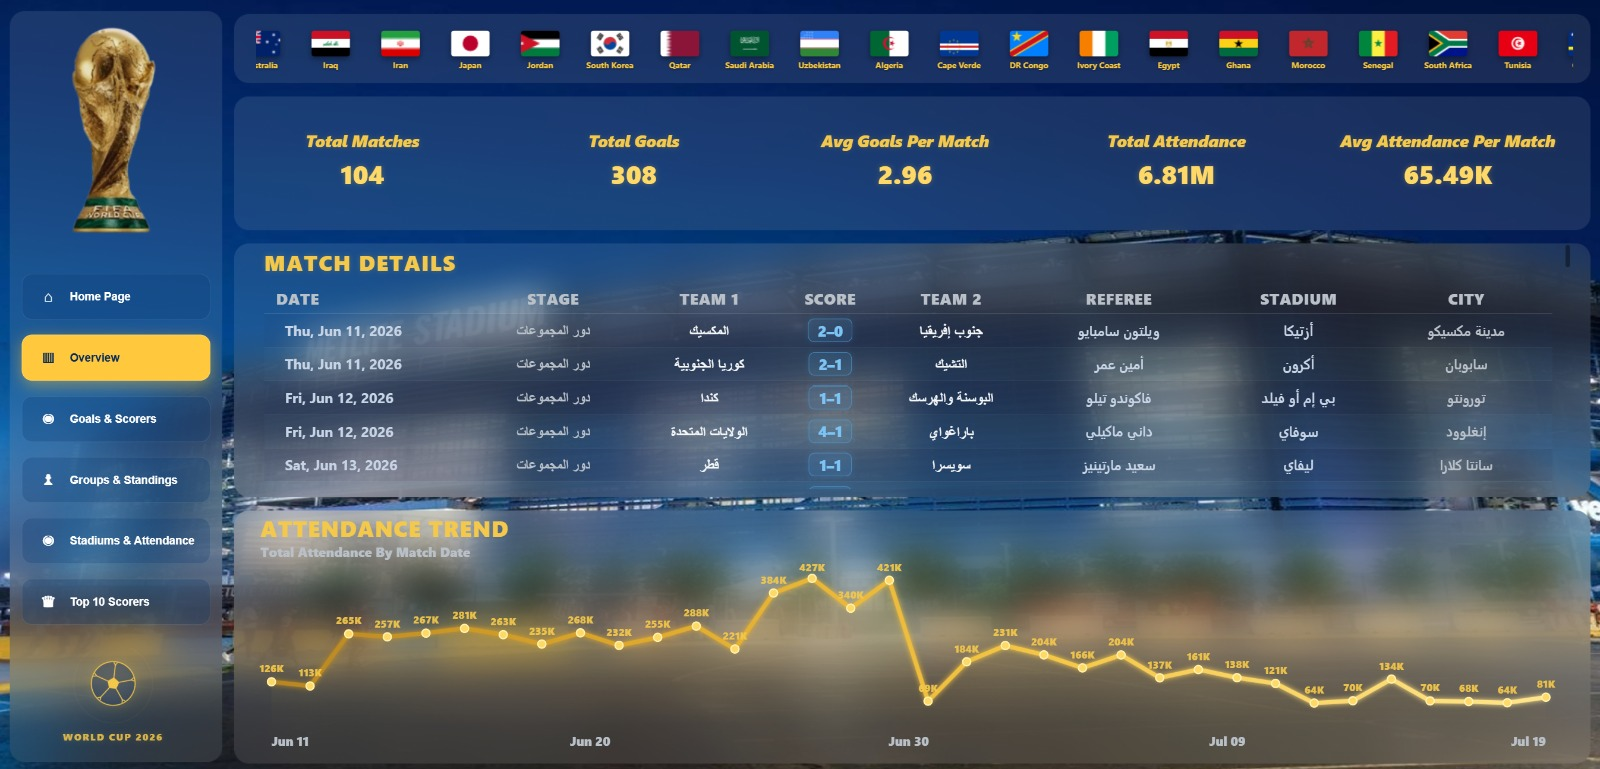

Layout of this report page (visuals, bound fields, positions):
{"tool":"powerbi","page":{"name":"Overview","canvas":[2162,1045],"ordinal":1},"visuals":[{"type":"htmlContent443BE3AD55E043BF878BED274D3A6855","fields":{"content":["HTML Dax.World Cup KPIs HTML"]},"box":[310,162,1826,174],"z":0},{"type":"htmlContent443BE3AD55E043BF878BED274D3A6855","fields":{"content":["HTML Dax.Match Details HTML"]},"box":[318,318,1818,360],"z":1000},{"type":"htmlContent443BE3AD55E043BF878BED274D3A6855","fields":{"content":["HTML Dax.Attendance Trend HTML"]},"box":[310,678,1826,368],"z":2000},{"type":"htmlContent443BE3AD55E043BF878BED274D3A6855","fields":{"content":["HTML DAX.Page Navigation HTML Overview 2"]},"box":[4,338,314,668],"z":3000},{"type":"htmlContent443BE3AD55E043BF878BED274D3A6855","fields":{"content":["HTML DAX.Teams Marquee 4"]},"box":[334,22,1804,104],"z":4000},{"type":"actionButton","box":[98,396,84,16],"z":5000},{"type":"actionButton","box":[98,558,120,18],"z":6000},{"type":"actionButton","box":[98,642,146,18],"z":7000},{"type":"actionButton","box":[96,722,172,18],"z":8000},{"type":"actionButton","box":[96,806,112,18],"z":9000},{"type":"htmlContent443BE3AD55E043BF878BED274D3A6855","fields":{"content":["HTML DAX.Sidebar Decoration HTML 3"]},"box":[0,861,314,184],"z":9001}]}

Visuals, with their boxes in screenshot pixels (x1, y1, x2, y2), scaled from the page's 2162x1045 canvas onto the 1600x769 screenshot:
htmlContent443BE3AD55E043BF878BED274D3A6855 - HTML Dax.World Cup KPIs HTML: {"left": 229, "top": 119, "right": 1581, "bottom": 247}
htmlContent443BE3AD55E043BF878BED274D3A6855 - HTML Dax.Match Details HTML: {"left": 235, "top": 234, "right": 1581, "bottom": 499}
htmlContent443BE3AD55E043BF878BED274D3A6855 - HTML Dax.Attendance Trend HTML: {"left": 229, "top": 499, "right": 1581, "bottom": 768}
htmlContent443BE3AD55E043BF878BED274D3A6855 - HTML DAX.Page Navigation HTML Overview 2: {"left": 3, "top": 249, "right": 235, "bottom": 740}
htmlContent443BE3AD55E043BF878BED274D3A6855 - HTML DAX.Teams Marquee 4: {"left": 247, "top": 16, "right": 1582, "bottom": 93}
actionButton: {"left": 73, "top": 291, "right": 135, "bottom": 303}
actionButton: {"left": 73, "top": 411, "right": 161, "bottom": 424}
actionButton: {"left": 73, "top": 472, "right": 181, "bottom": 486}
actionButton: {"left": 71, "top": 531, "right": 198, "bottom": 545}
actionButton: {"left": 71, "top": 593, "right": 154, "bottom": 606}
htmlContent443BE3AD55E043BF878BED274D3A6855 - HTML DAX.Sidebar Decoration HTML 3: {"left": 0, "top": 634, "right": 232, "bottom": 768}
